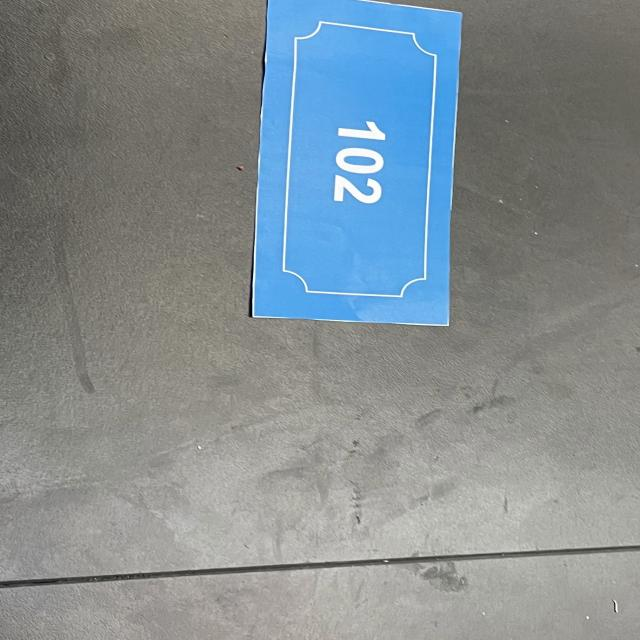Card: (220, 0, 502, 349)
